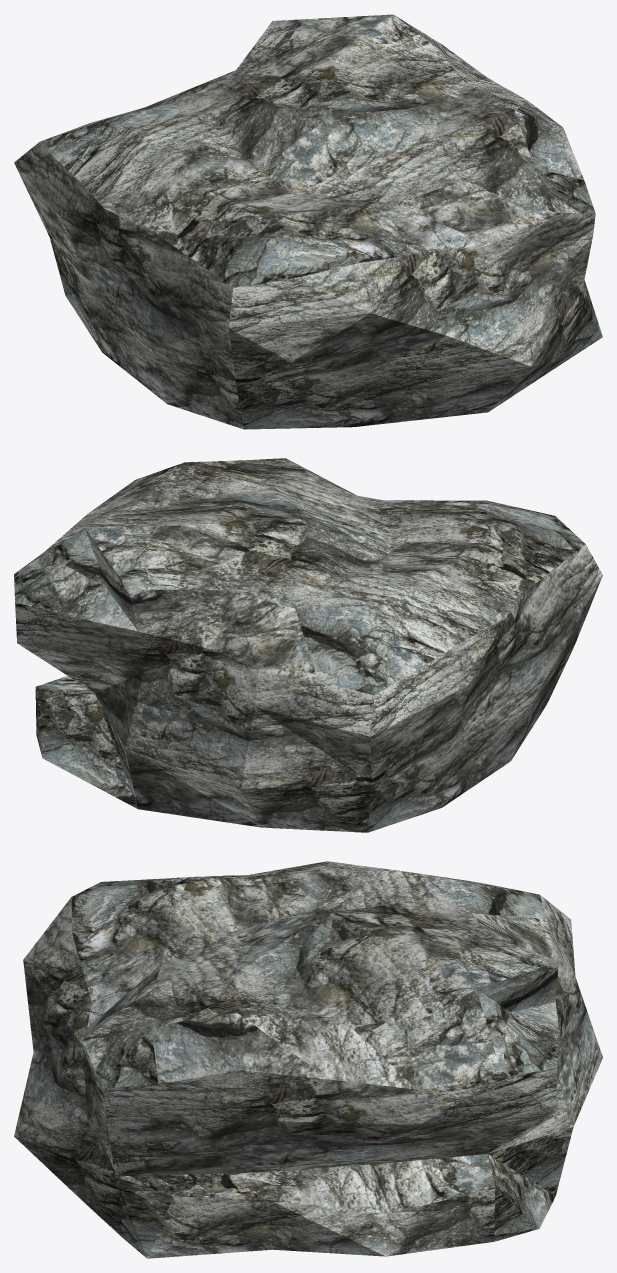
The model's file is GroundRock_01.DAE.
The picture shows the model from 3 angles, top to bottom: view 1: azimuth 30°, elevation 25°; view 2: azimuth 150°, elevation 25°; view 3: azimuth 270°, elevation 25°; orthographic projection. The views are drawn at different scales.
Visible parts, largest first — view 1: DinoGroundStoneOne300; view 2: DinoGroundStoneOne300; view 3: DinoGroundStoneOne300.
Boxes of the visible parts, x1,y1,x2,y2 form: DinoGroundStoneOne300: (14, 14, 602, 429); DinoGroundStoneOne300: (14, 458, 602, 832); DinoGroundStoneOne300: (14, 861, 602, 1258).
Size of what is drawn, in the model's own units: 6.95 by 7.63 by 3.83.
